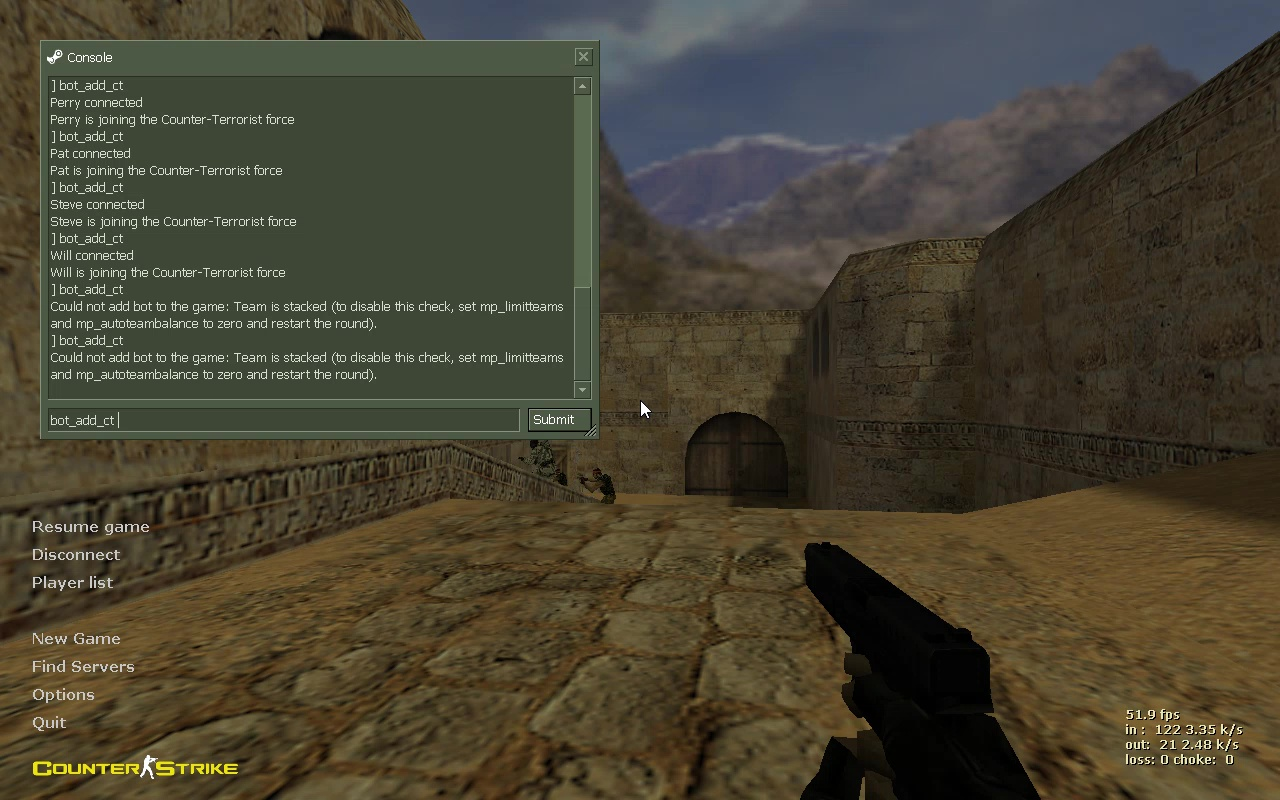terr1: (574, 465, 619, 512)
terr2: (516, 440, 559, 484)
